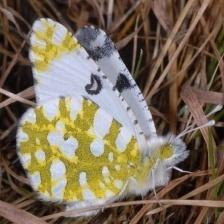butterfly: (18, 18, 189, 206)
